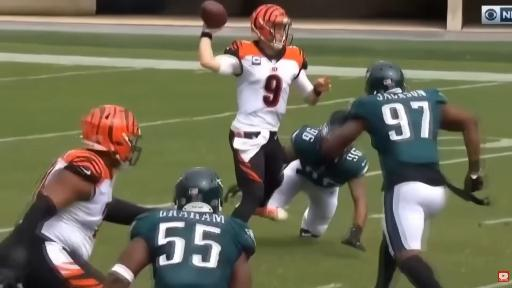Helmet: (82, 105, 141, 166), (175, 168, 223, 213), (250, 4, 291, 49), (366, 62, 405, 94), (321, 110, 348, 137)
Jersey: (348, 89, 446, 189), (131, 210, 255, 287), (36, 149, 113, 259), (225, 41, 312, 131), (291, 126, 368, 187)
Player: (323, 62, 482, 287), (199, 5, 330, 221), (0, 105, 148, 287), (104, 168, 255, 287), (259, 111, 368, 250)
